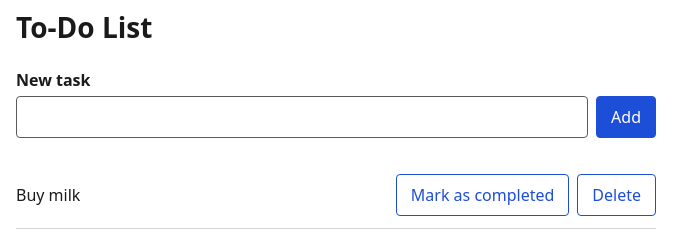
Test: TaskListPage — US2 mark as completed › US2-AS1 (T042): shows "Completed" only after the response, then announces it
Click the button named "Mark as completed: Buy milk" at (483, 195), box [396,174,569,216]
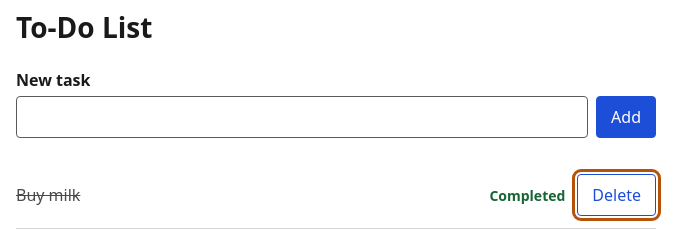
Expected: the text "Completed" is shown, [489,184,565,206]
Now the button "Mark as completed" is gone
